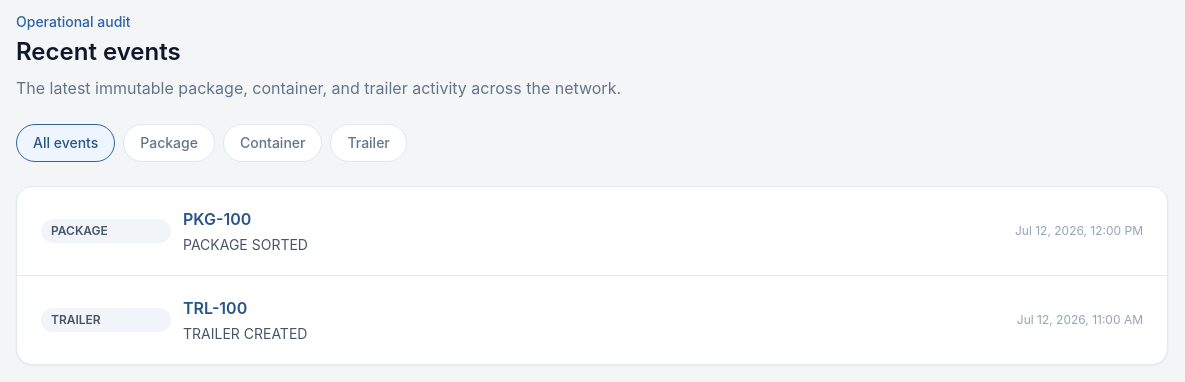
Test: EventsPage integration › links recent events to asset details and filters by asset type
The image size is (1185, 382).
Click the button "Package" at (169, 143), box [123,124,215,162]
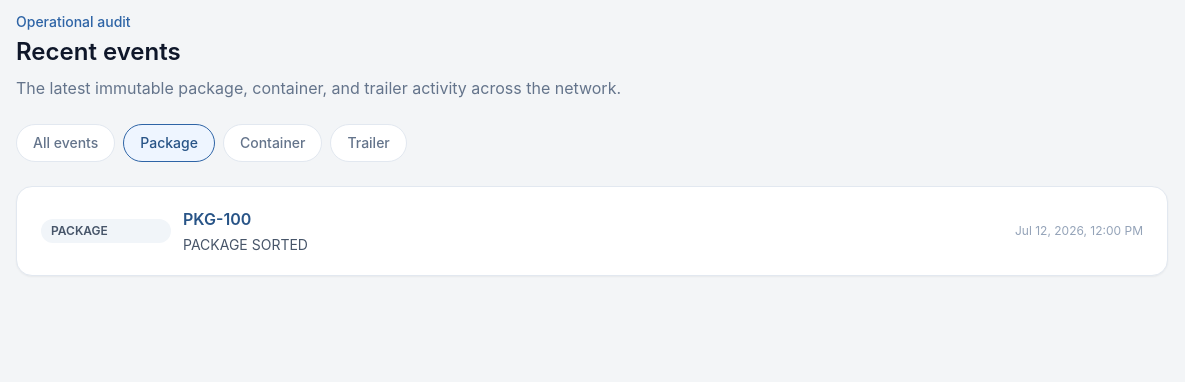
Expected: the link "PKG-100" is shown, [183,209,251,229]
Expected: the link "TRL-100" is gone
